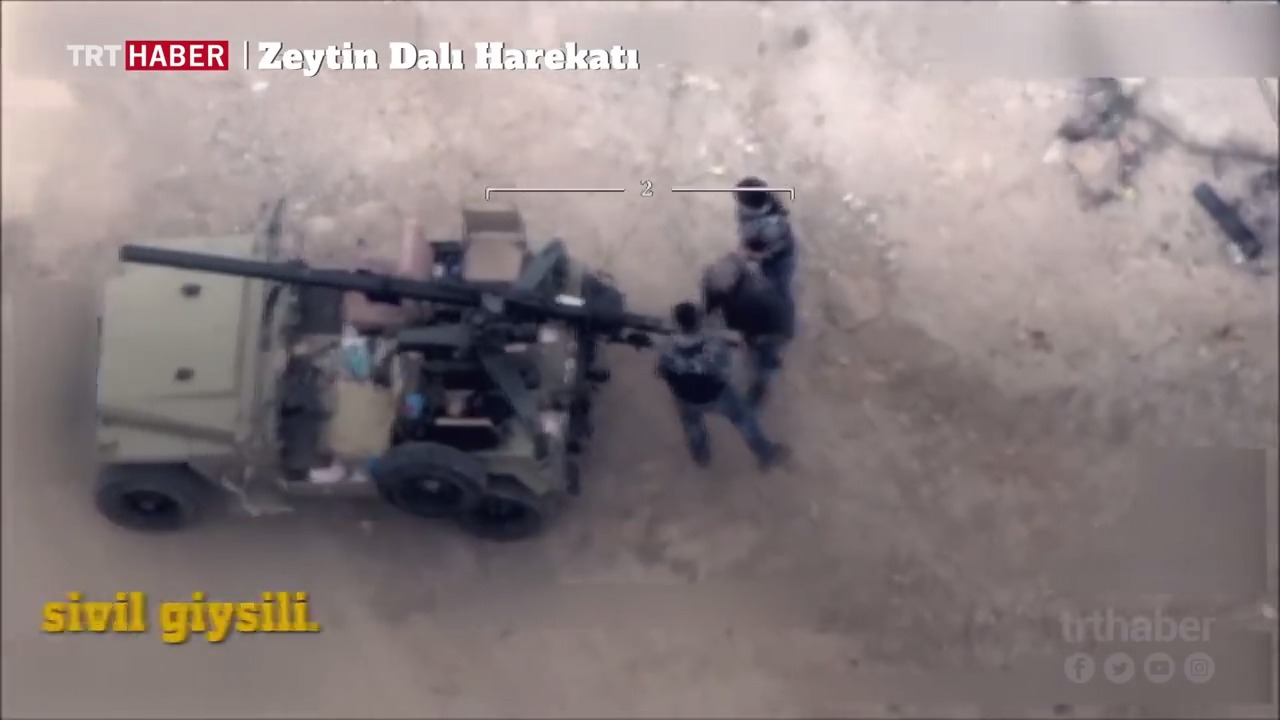arac: (73, 217, 650, 540)
insan: (662, 283, 762, 483), (737, 166, 808, 346), (700, 244, 762, 337)
